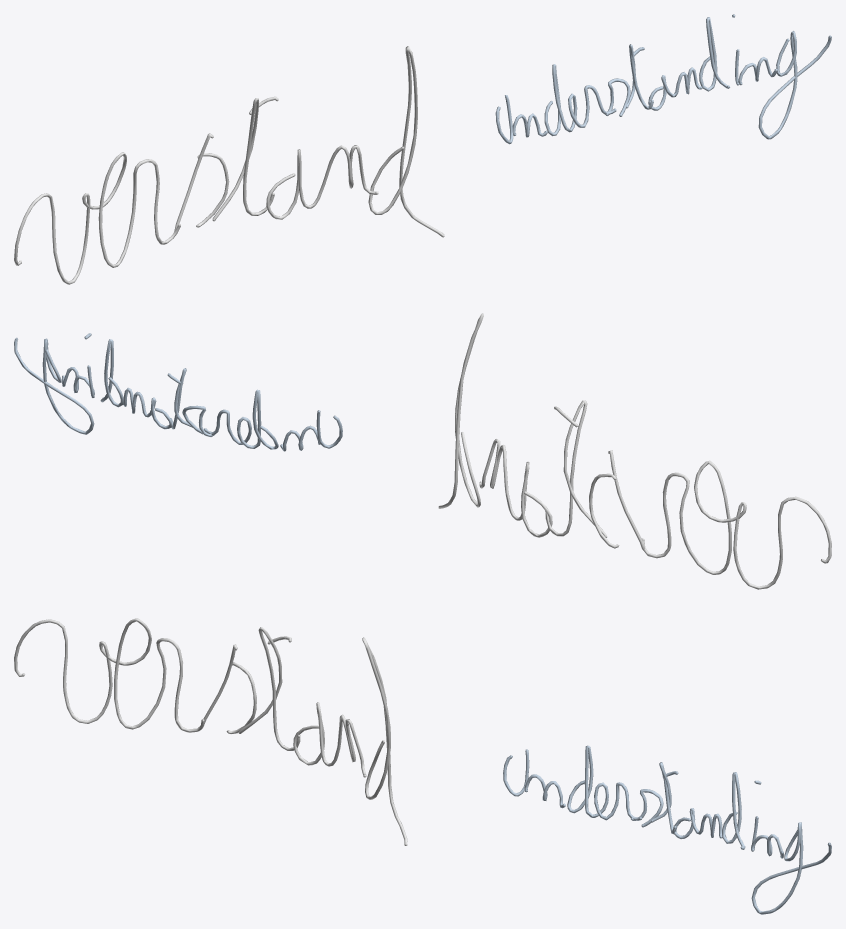
File: Verstand.glb
3 renders of one model, top to bottom at view 1: azimuth 30°, elevation 25°; view 2: azimuth 150°, elevation 25°; view 3: azimuth 330°, elevation 25°, orthographic.
Visible parts, largest first — view 1: Mesh_6.001; view 2: Mesh_6.001; view 3: Mesh_6.001.
Boxes of the visible parts, x1,y1,x2,y2 form: Mesh_6.001: [14, 14, 831, 284]; Mesh_6.001: [14, 313, 831, 589]; Mesh_6.001: [14, 618, 831, 914].
Bounding box in the file's own units: 2.81 × 0.6657 × 0.2568.
